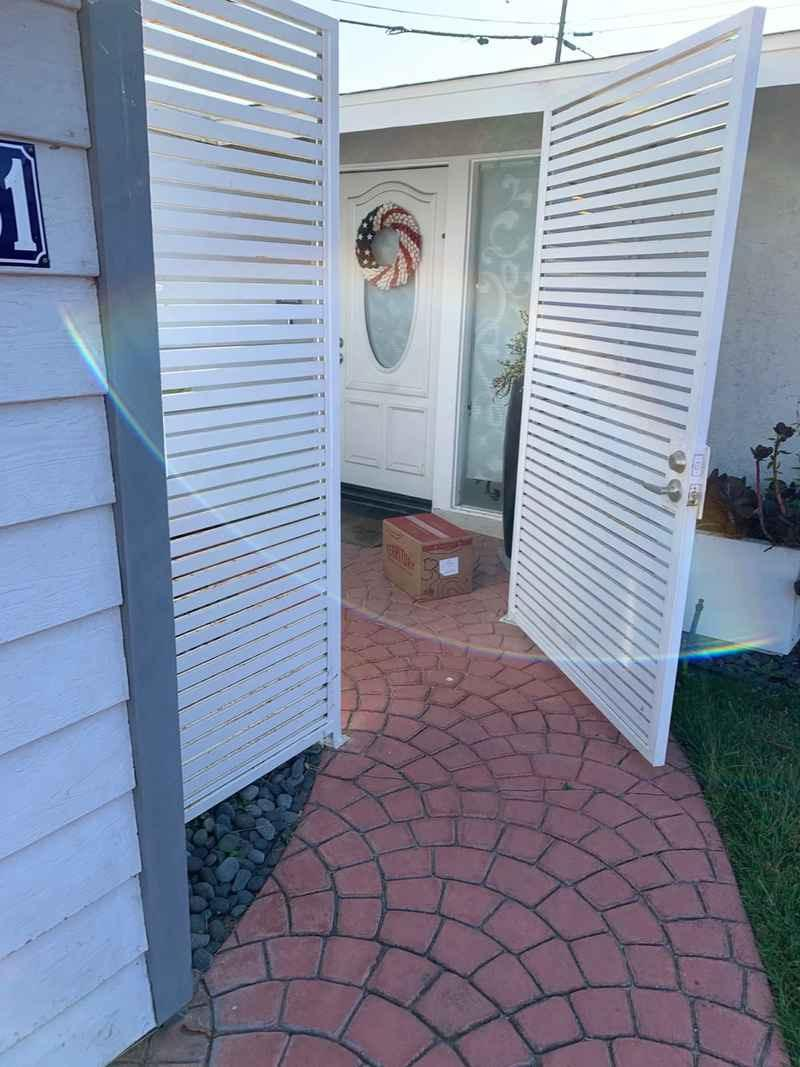package: (379, 510, 478, 601)
